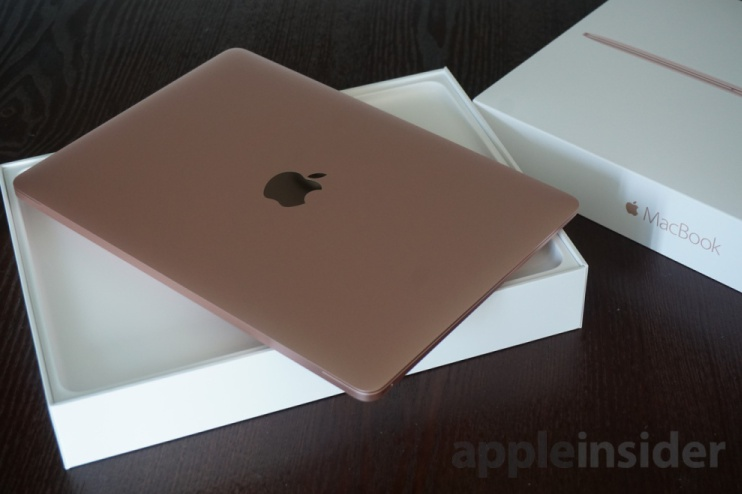apple: (242, 147, 354, 225)
